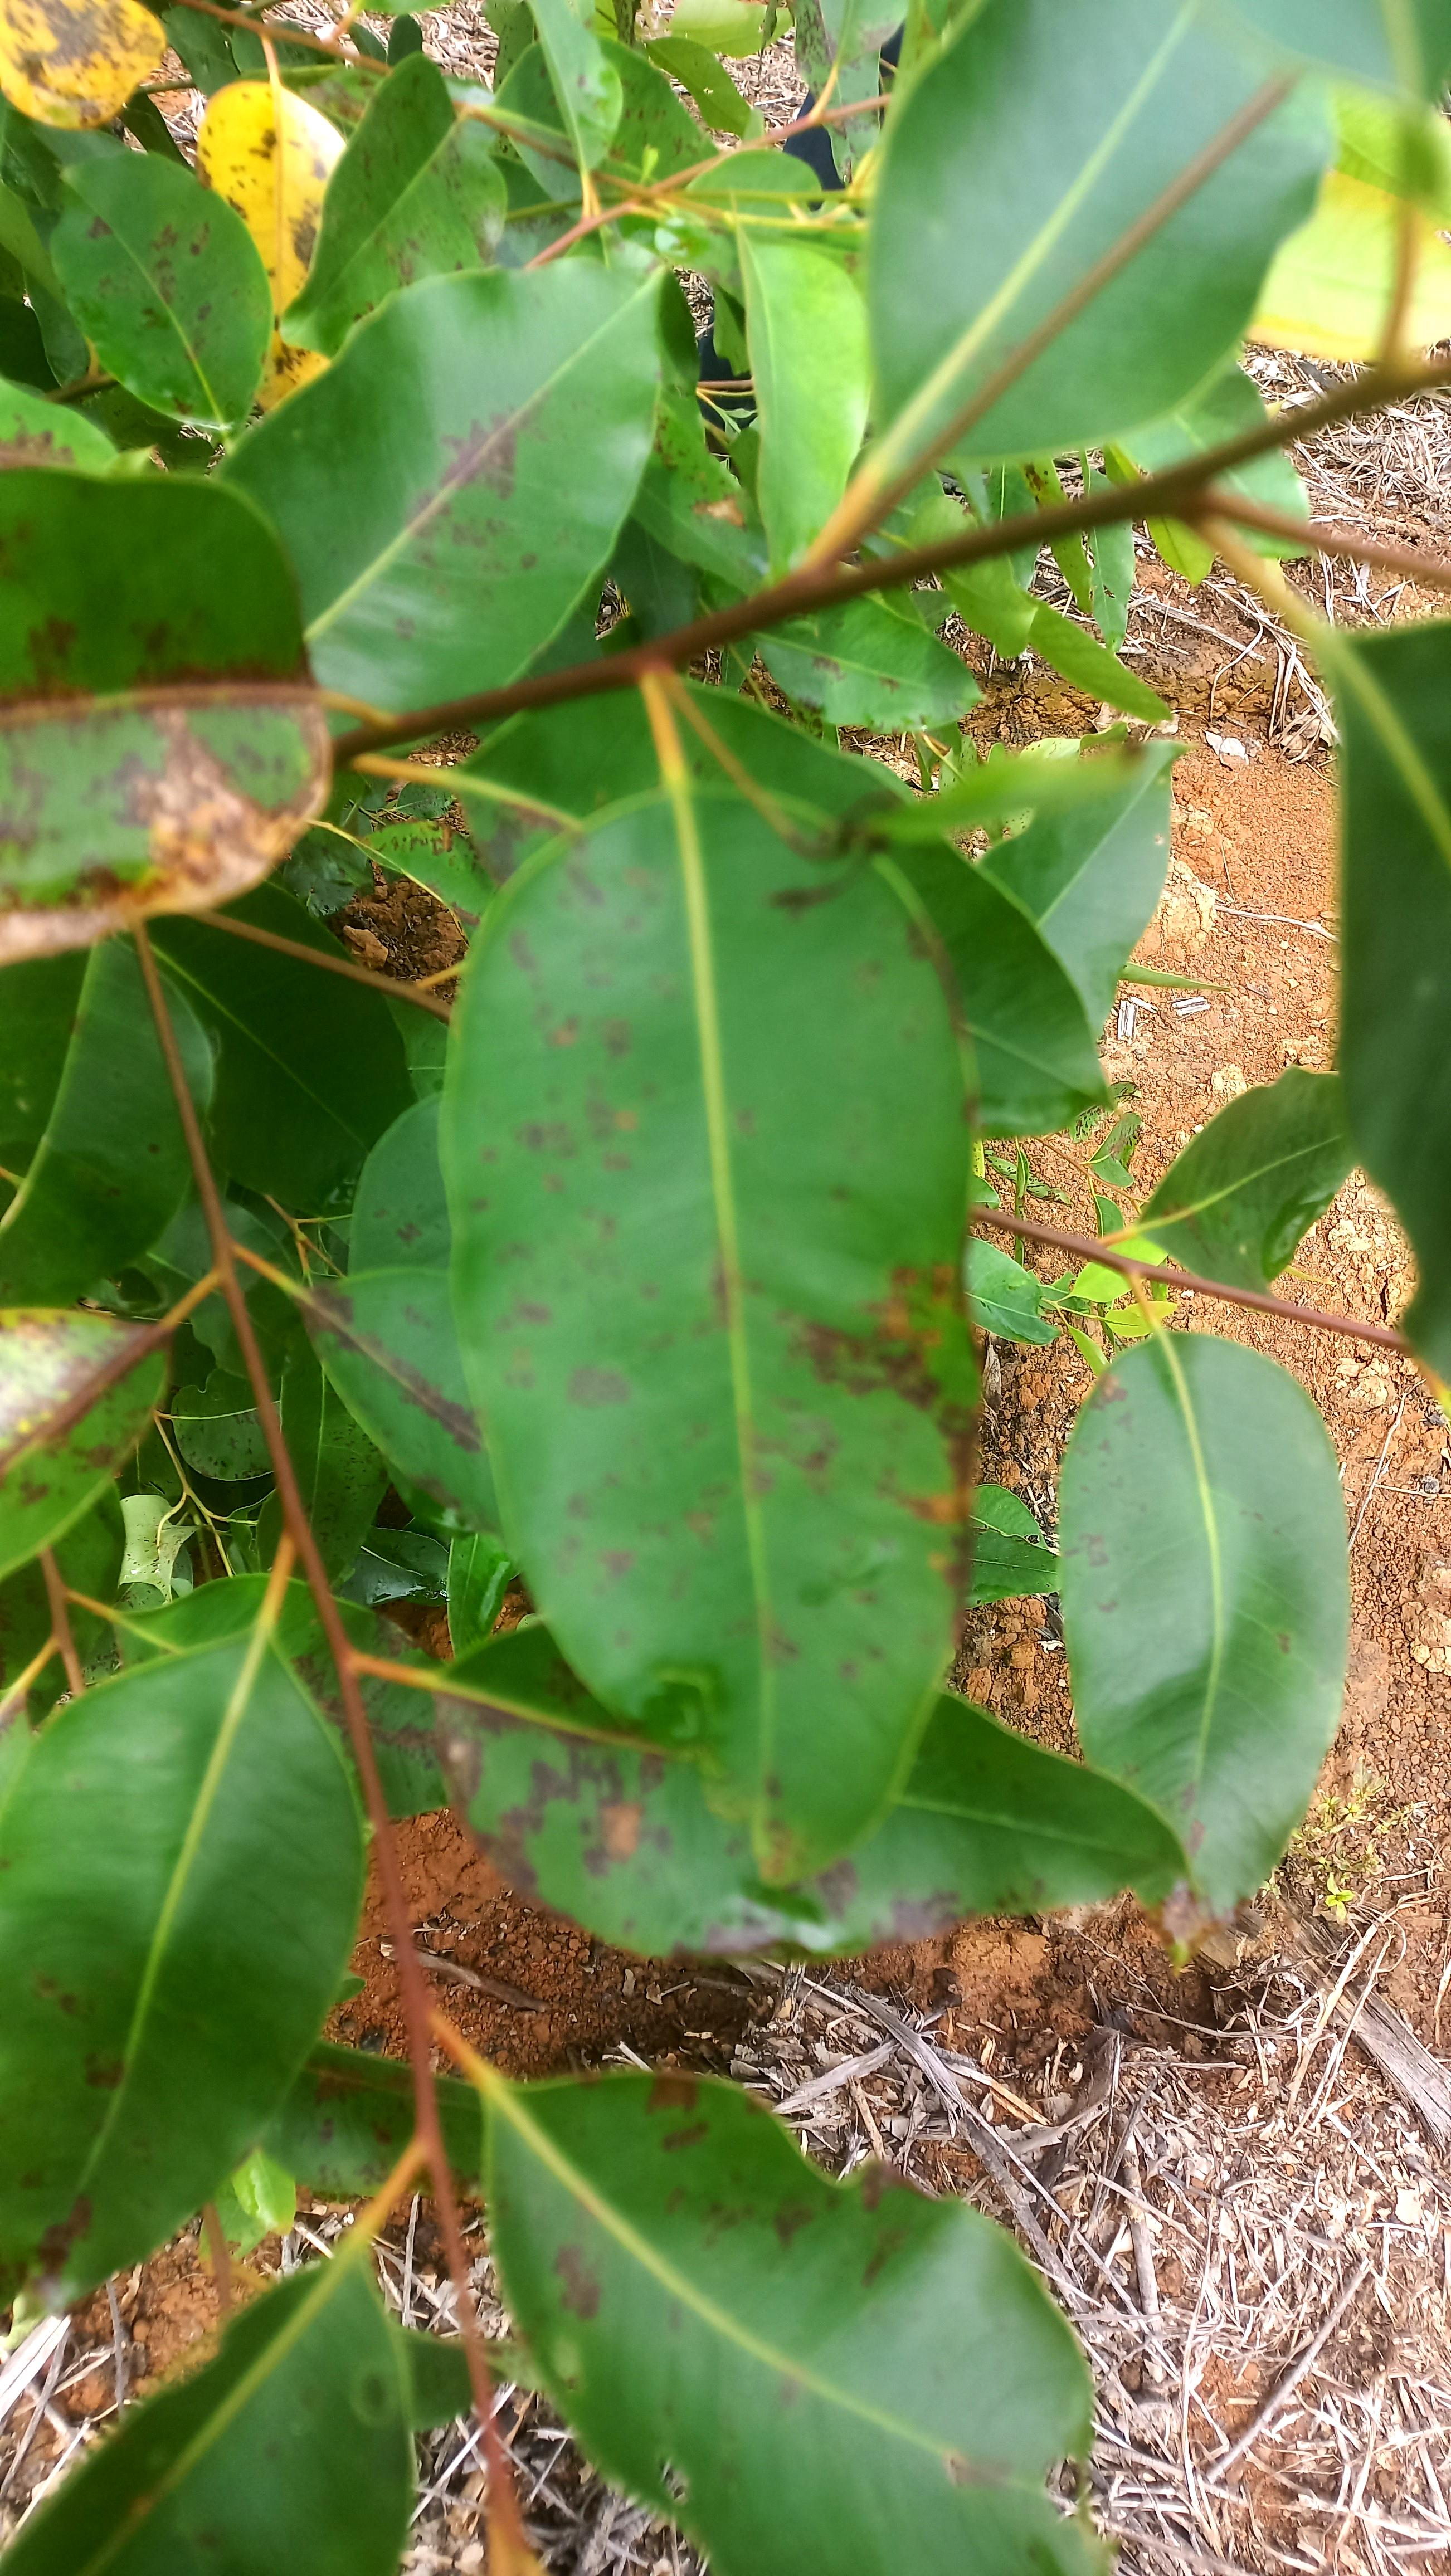Xanthomonas: (503, 870, 996, 1785), (7, 609, 315, 943)
